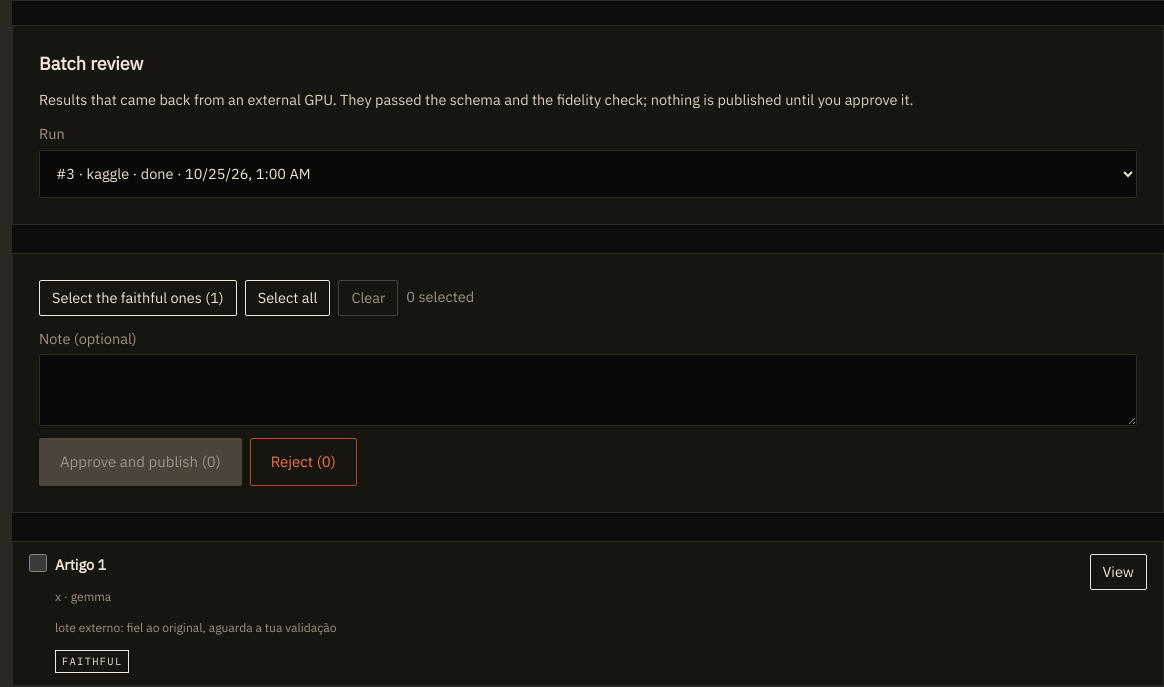
Test: Batch review › avisa dos itens que mudaram entretanto
(page scrolled)
Click the checkbox named "Select Artigo 1" at x=38, y=563, box [29,554,47,572]
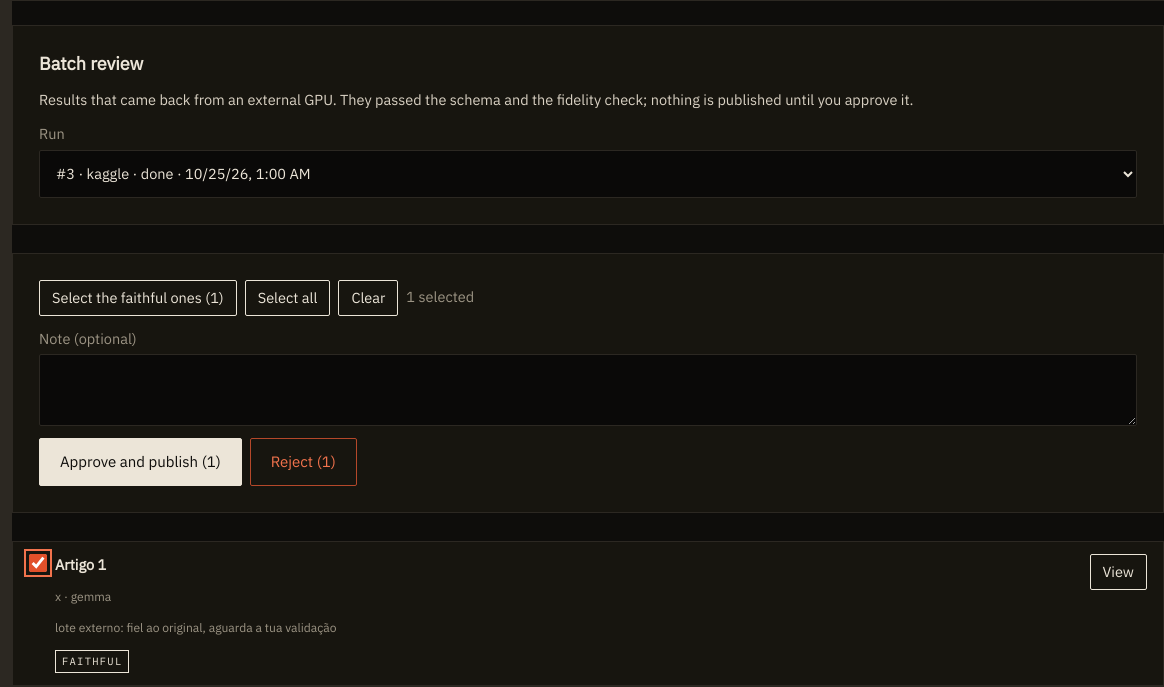
Click the button "Reject (1)" at x=303, y=462, box [250,438,357,486]
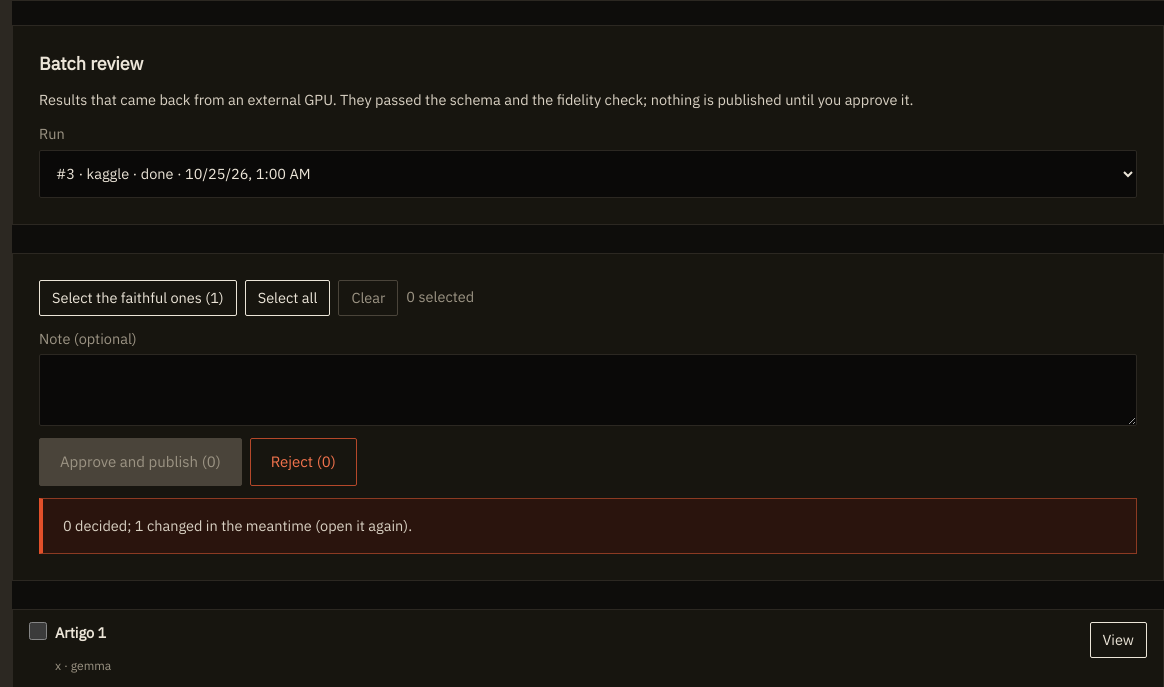
Expected: the text "0 decided; 1 changed in the meantime (open it again)." is shown, [39,498,1137,554]
